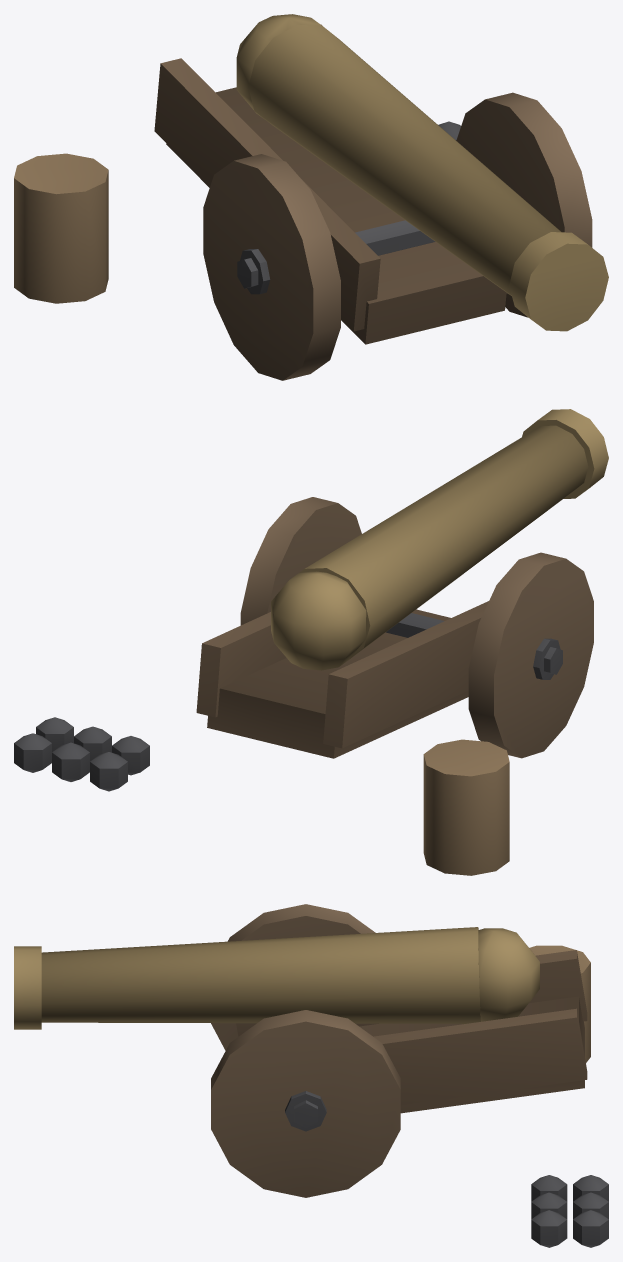
File: post_early.glb
The picture shows the model from 3 angles, top to bottom: view 1: azimuth 30°, elevation 25°; view 2: azimuth 150°, elevation 25°; view 3: azimuth 270°, elevation 25°; orthographic projection. The views are drawn at different scales.
Parts seen in each view (by area): view 1: Body; view 2: Body; view 3: Body.
Part boxes in pixels (x1,y1,x2,y2): Body: (14, 14, 608, 380); Body: (14, 409, 608, 875); Body: (14, 904, 608, 1247).
Size of the model in its own units: 0.7296 by 0.33 by 0.856.
